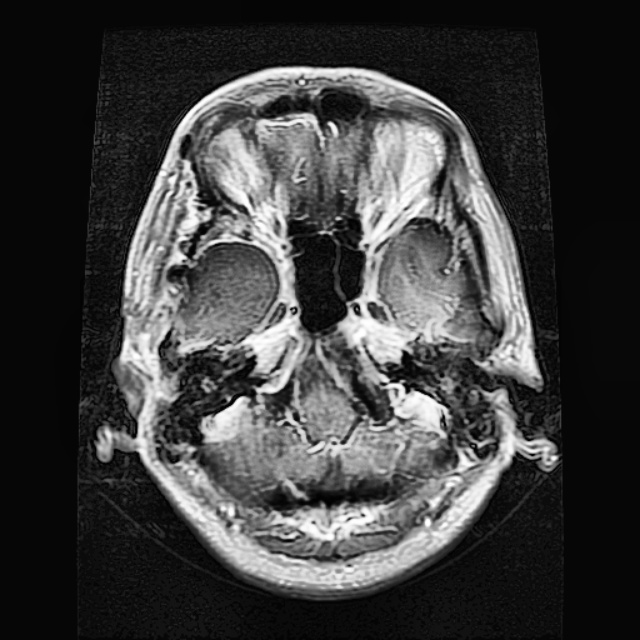Glioma: (174, 239, 280, 345)
